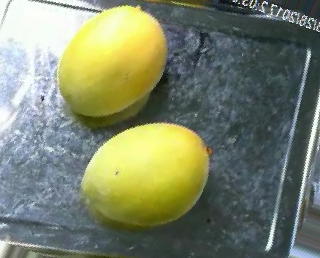Mango: (77, 120, 213, 226), (59, 4, 171, 115)
